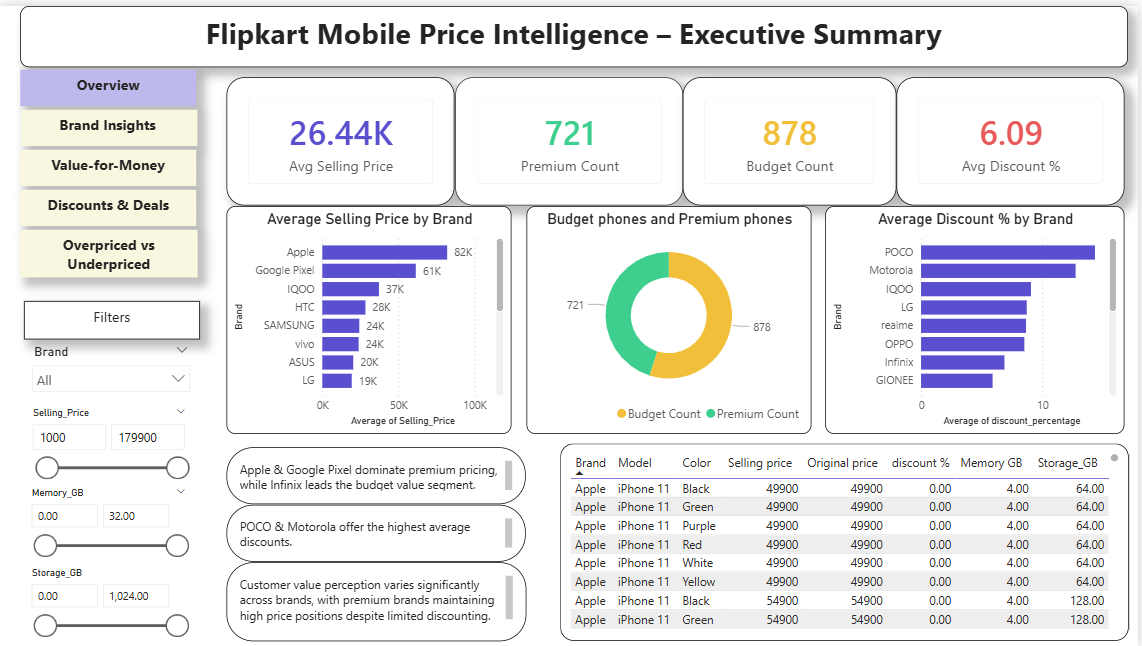

Layout of this report page (visuals, bound fields, positions):
{"tool":"powerbi","page":{"name":"Overview Dashboard","canvas":[1280,720],"ordinal":0},"visuals":[{"type":"textbox","box":[23.8,0,1243.8,68.7],"z":0},{"type":"cardVisual","fields":{"Data":["flipkart_mobiles_cleaned.Avg Selling Price"]},"box":[256,80,256,144],"z":1000},{"type":"cardVisual","fields":{"Data":["flipkart_mobiles_cleaned.Premium Count"]},"box":[512,80,256,144],"z":2000},{"type":"cardVisual","fields":{"Data":["flipkart_mobiles_cleaned.Budget Count"]},"box":[768,80,240,144],"z":3000},{"type":"cardVisual","fields":{"Data":["flipkart_mobiles_cleaned.Avg Discount %"]},"box":[1008,80,256,144],"z":4000},{"type":"clusteredBarChart","title":"Average Selling Price by Brand","fields":{"Category":["flipkart_mobiles_cleaned.Brand"],"Y":["Avg(flipkart_mobiles_cleaned.Selling_Price)"]},"box":[256,224,320,256],"z":5000},{"type":"donutChart","title":"Budget phones and Premium phones","fields":{"Y":["flipkart_mobiles_cleaned.Budget Count","flipkart_mobiles_cleaned.Premium Count"]},"box":[592,224,320,256],"z":6000},{"type":"clusteredBarChart","title":"Average Discount % by Brand","fields":{"Category":["flipkart_mobiles_cleaned.Brand"],"Y":["Avg(flipkart_mobiles_cleaned.discount_percentage)"]},"box":[928,224,336,256],"z":7000},{"type":"textbox","box":[256,496,336,64],"z":8000},{"type":"textbox","box":[256,560,336,64],"z":9000},{"type":"tableEx","fields":{"Values":["flipkart_mobiles_cleaned.Brand","flipkart_mobiles_cleaned.Model","flipkart_mobiles_cleaned.Color","flipkart_mobiles_cleaned.Selling_Price","flipkart_mobiles_cleaned.Original_Price","flipkart_mobiles_cleaned.discount_percentage","flipkart_mobiles_cleaned.Memory_GB","flipkart_mobiles_cleaned.Storage_GB"]},"box":[629.6,490.8,638,221.6],"z":10000},{"type":"slicer","fields":{"Values":["flipkart_mobiles_cleaned.Brand"]},"box":[26.6,374.4,197.7,70.1],"z":11000},{"type":"slicer","fields":{"Values":["flipkart_mobiles_cleaned.Memory_GB"]},"box":[23.8,534.3,197.7,89.7],"z":12000},{"type":"slicer","fields":{"Values":["flipkart_mobiles_cleaned.Storage_GB"]},"box":[23.8,624,197.7,88.3],"z":13000},{"type":"slicer","fields":{"Values":["flipkart_mobiles_cleaned.Selling_Price"]},"box":[25.2,444.5,196.3,89.7],"z":14000},{"type":"textbox","box":[28,330.9,197.7,43.5],"z":15000},{"type":"textbox","box":[23.8,71.5,197.7,40.7],"z":16000},{"type":"textbox","box":[25.2,116.4,197.7,40.7],"z":17000},{"type":"textbox","box":[23.8,161.3,197.7,40.7],"z":18000},{"type":"textbox","box":[23.8,206.1,197.7,40.7],"z":19000},{"type":"textbox","box":[23.8,251,199.1,53.3],"z":20000},{"type":"textbox","box":[255.5,624.7,336.9,88.4],"z":21000}]}

Visuals, with their boxes in screenshot pixels (x1, y1, x2, y2), scaled from the page's 1280x720 canvas onto the 1142x646 screenshot:
textbox: x1=21 y1=0 x2=1131 y2=62
cardVisual - flipkart_mobiles_cleaned.Avg Selling Price: x1=228 y1=72 x2=457 y2=201
cardVisual - flipkart_mobiles_cleaned.Premium Count: x1=457 y1=72 x2=685 y2=201
cardVisual - flipkart_mobiles_cleaned.Budget Count: x1=685 y1=72 x2=899 y2=201
cardVisual - flipkart_mobiles_cleaned.Avg Discount %: x1=899 y1=72 x2=1128 y2=201
"Average Selling Price by Brand" clusteredBarChart: x1=228 y1=201 x2=514 y2=431
"Budget phones and Premium phones" donutChart: x1=528 y1=201 x2=814 y2=431
"Average Discount % by Brand" clusteredBarChart: x1=828 y1=201 x2=1128 y2=431
textbox: x1=228 y1=445 x2=528 y2=502
textbox: x1=228 y1=502 x2=528 y2=560
tableEx - flipkart_mobiles_cleaned.Brand x flipkart_mobiles_cleaned.Model: x1=562 y1=440 x2=1131 y2=639
slicer - flipkart_mobiles_cleaned.Brand: x1=24 y1=336 x2=200 y2=399
slicer - flipkart_mobiles_cleaned.Memory_GB: x1=21 y1=479 x2=198 y2=560
slicer - flipkart_mobiles_cleaned.Storage_GB: x1=21 y1=560 x2=198 y2=639
slicer - flipkart_mobiles_cleaned.Selling_Price: x1=22 y1=399 x2=198 y2=479
textbox: x1=25 y1=297 x2=201 y2=336
textbox: x1=21 y1=64 x2=198 y2=101
textbox: x1=22 y1=104 x2=199 y2=141
textbox: x1=21 y1=145 x2=198 y2=181
textbox: x1=21 y1=185 x2=198 y2=221
textbox: x1=21 y1=225 x2=199 y2=273
textbox: x1=228 y1=560 x2=529 y2=640
